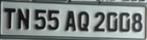0: (106, 10, 119, 33), (119, 10, 131, 33)
2: (93, 8, 106, 33)
5: (47, 7, 61, 31), (34, 7, 47, 30)
8: (131, 9, 144, 33)
A: (64, 9, 77, 32)
N: (16, 7, 30, 31)
Q: (77, 9, 90, 32)
T: (3, 5, 18, 32)
